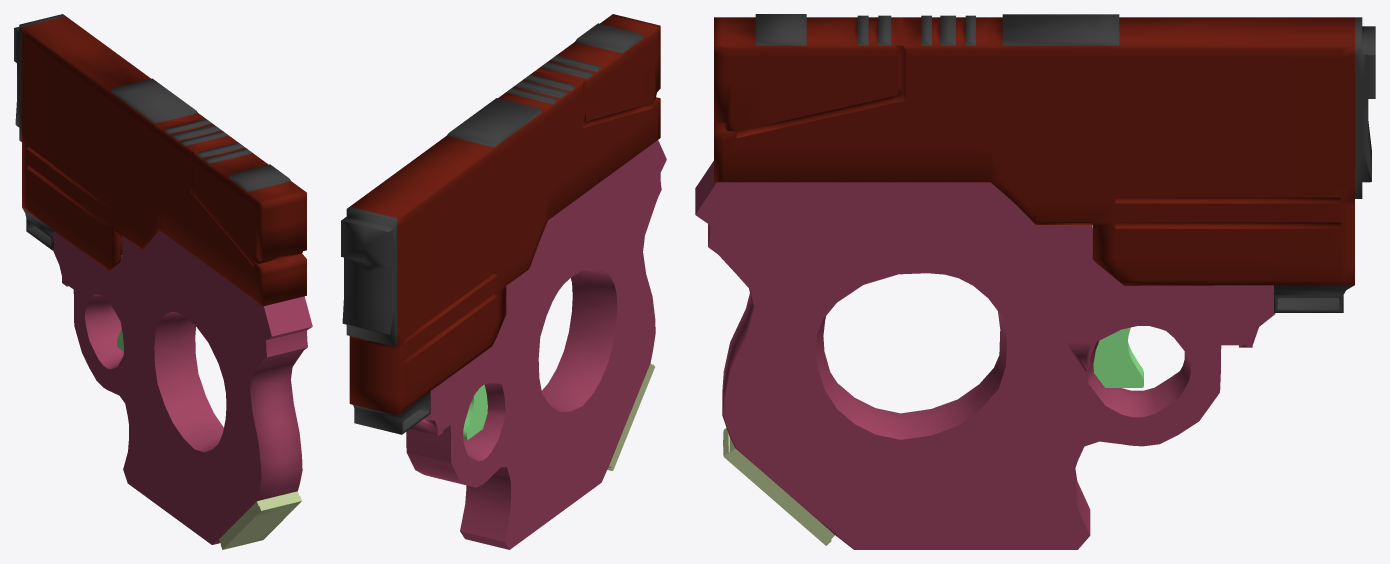
The model's file is Pistol1.FBX.
The picture shows the model from 3 angles, left to right: view 1: azimuth 30°, elevation 25°; view 2: azimuth 150°, elevation 25°; view 3: azimuth 270°, elevation 25°; orthographic projection. The views are drawn at different scales.
Visible parts, largest first — view 1: Pistol1_Slide, Pistol1_LowerBody; view 2: Pistol1_Slide, Pistol1_LowerBody, Pistol1_Trigger; view 3: Pistol1_Slide, Pistol1_LowerBody, Pistol1_Trigger.
Part boxes in pixels (x1,y1,x2,y2): Pistol1_Slide: (14, 14, 306, 306); Pistol1_LowerBody: (53, 231, 312, 549); Pistol1_Slide: (341, 14, 660, 434); Pistol1_LowerBody: (406, 140, 666, 549); Pistol1_Trigger: (463, 384, 487, 439); Pistol1_Slide: (714, 14, 1375, 312); Pistol1_LowerBody: (695, 161, 1275, 549); Pistol1_Trigger: (1093, 327, 1143, 387).
Size of the model in its own units: 2815 by 22620 by 27365.
